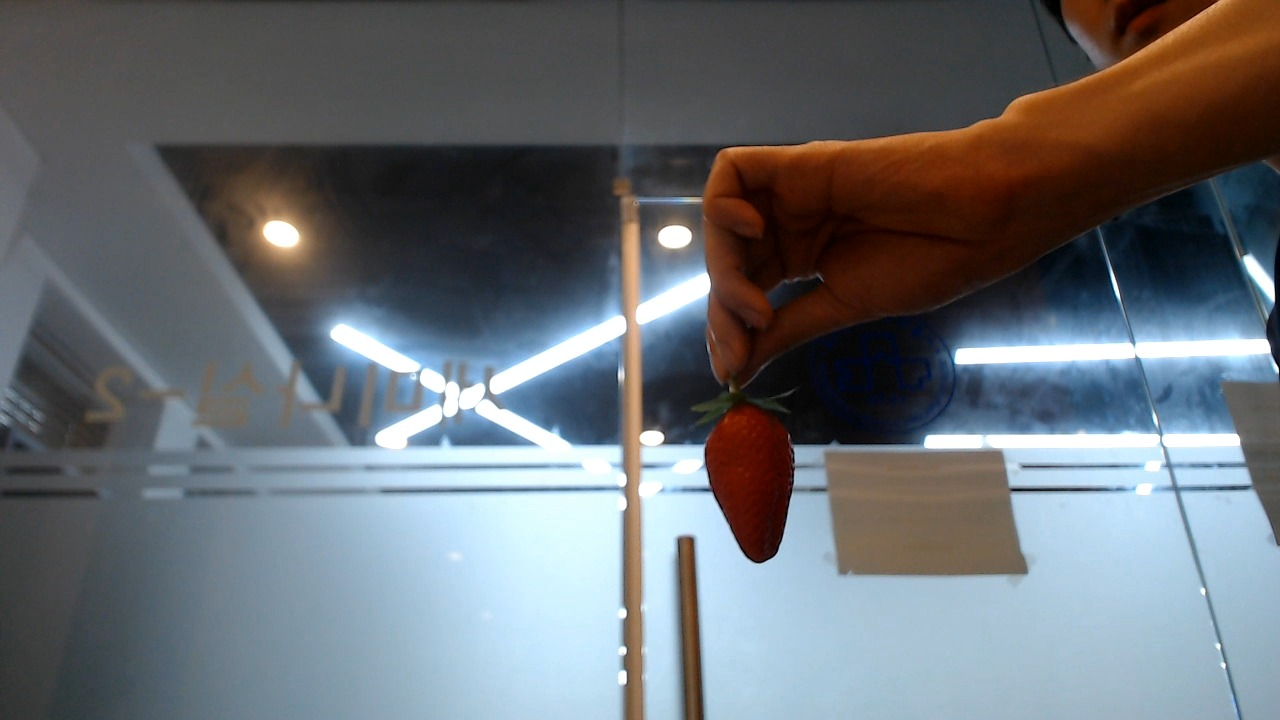strawberry: (690, 397, 813, 568)
